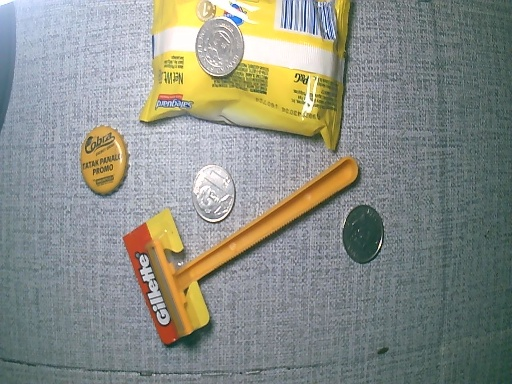metal: (79, 126, 128, 195), (195, 16, 242, 76), (190, 166, 235, 224), (342, 206, 384, 262)
plastic: (138, 1, 344, 152)
trash: (209, 155, 357, 269), (121, 211, 212, 340)
